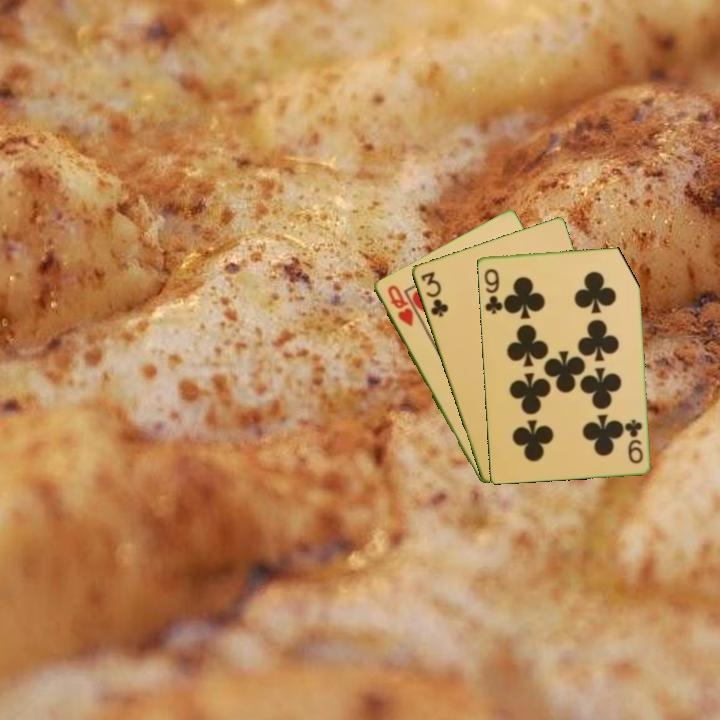3c: (417, 268, 451, 320)
9c: (480, 265, 505, 316), (622, 415, 645, 466)
Qh: (383, 281, 416, 329)
